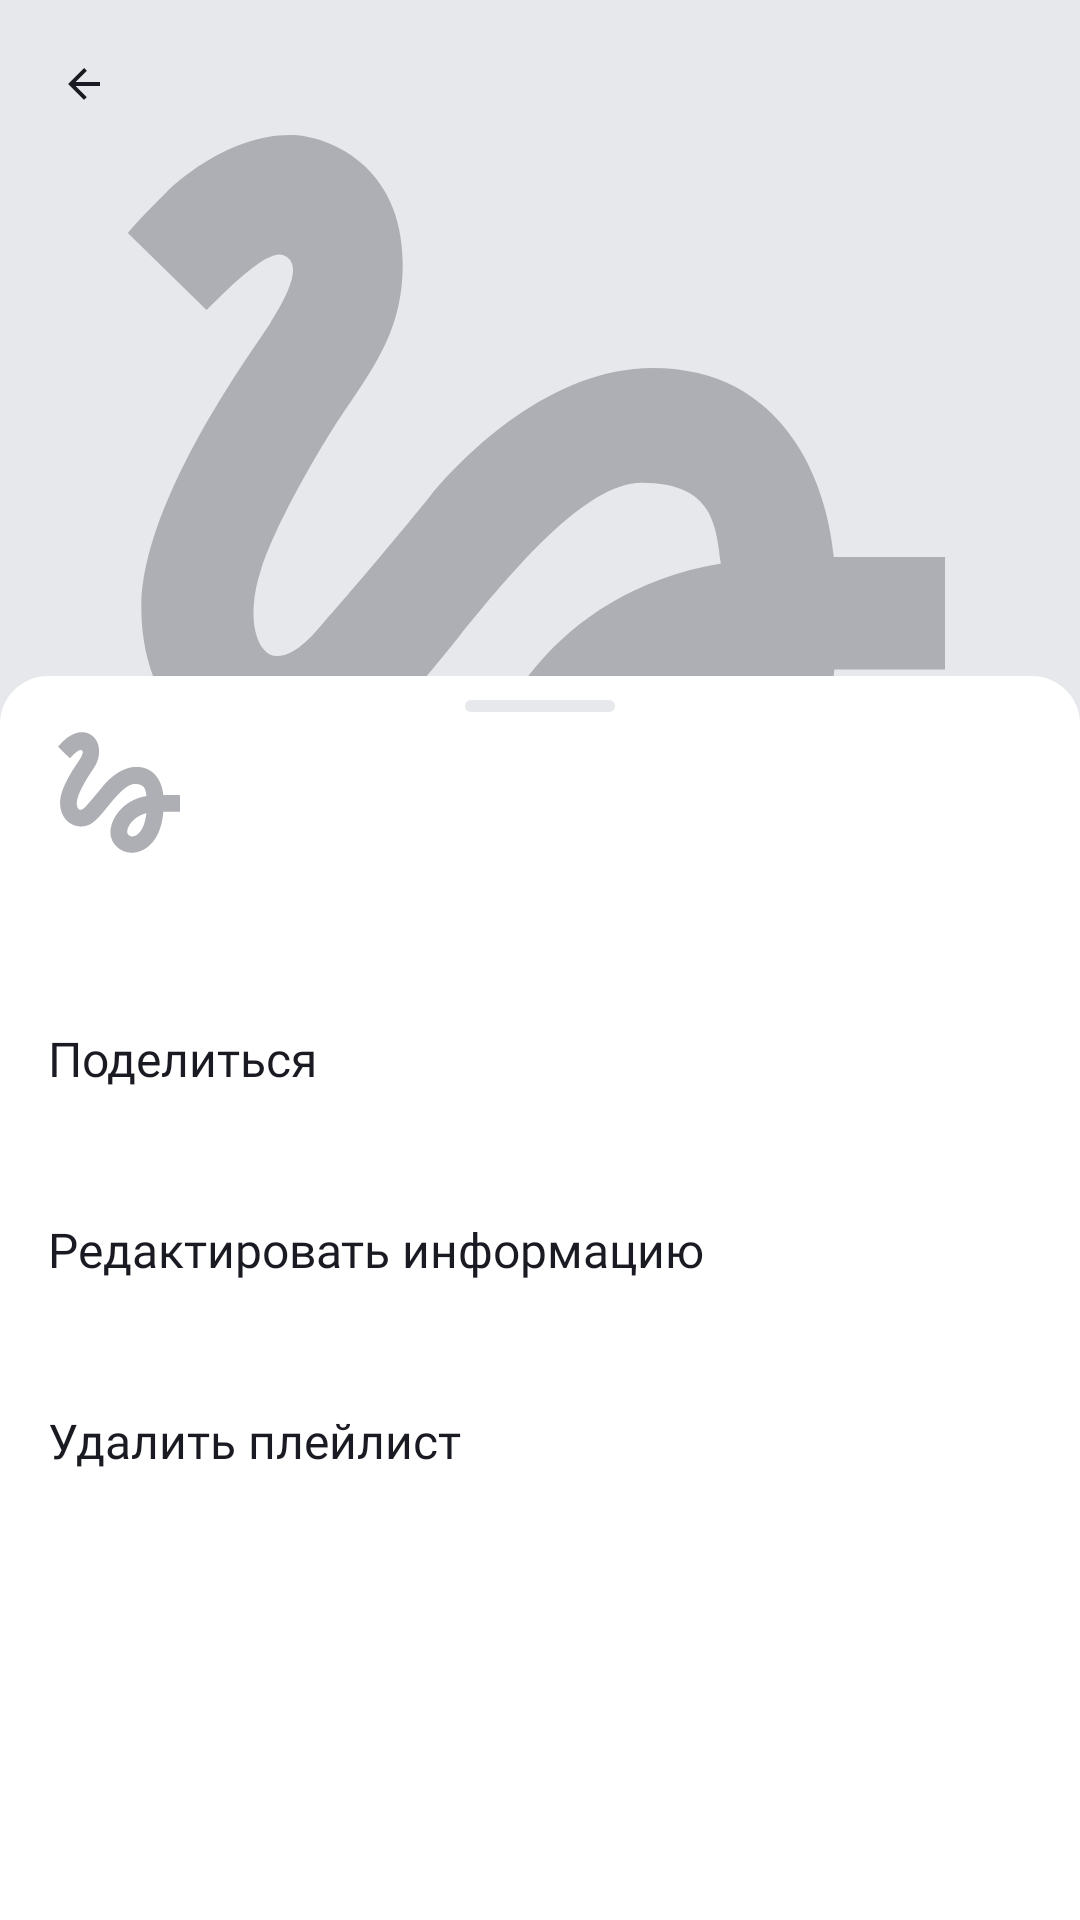

Screen size 1080*1920. Icon name, then its box in pixels as (x1, y1, x2, y2):
back: (68, 68, 100, 100)
